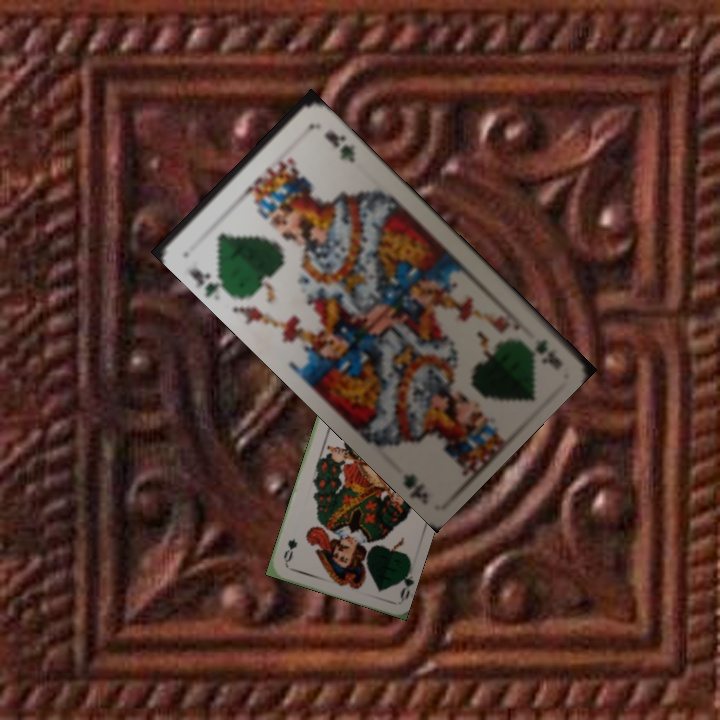GK: (184, 264, 230, 298), (531, 335, 560, 364)
GO: (392, 562, 415, 603)
